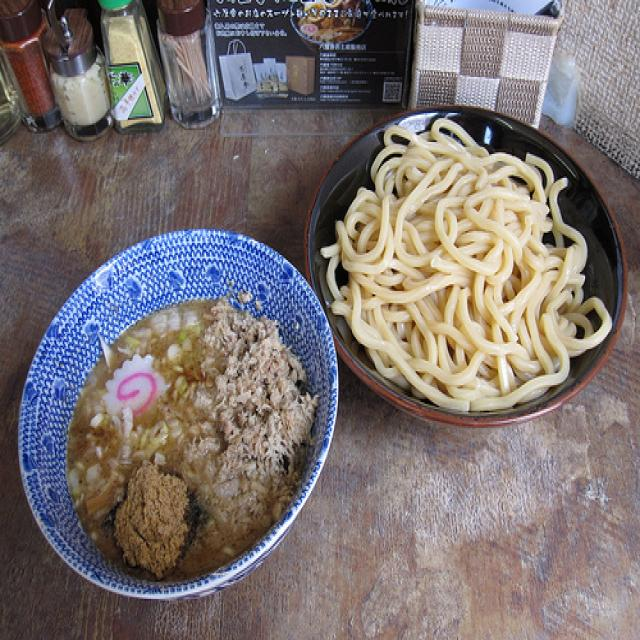面条主食: (64, 134, 596, 578)
